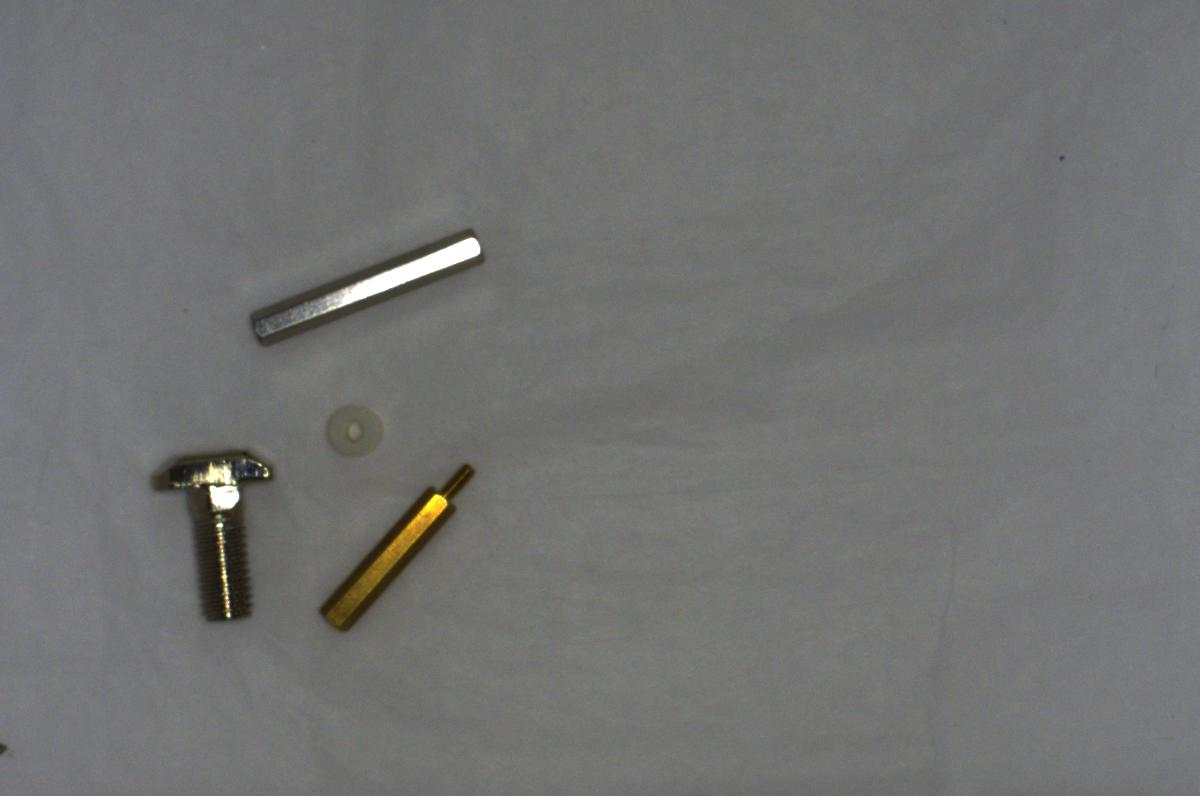Double hexagonal column: (244, 222, 488, 347)
Hexagon pillar: (313, 453, 478, 639)
Plastic cushion pillar: (321, 398, 386, 456)
T-shaped screw: (141, 439, 275, 630)
